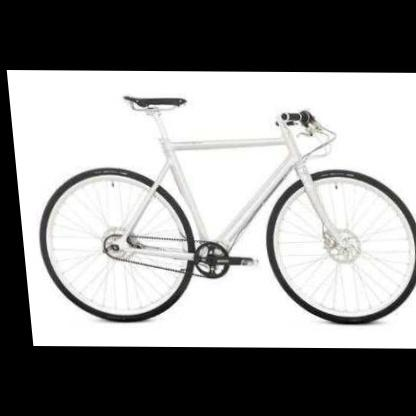Bicycle: (36, 77, 416, 341)
